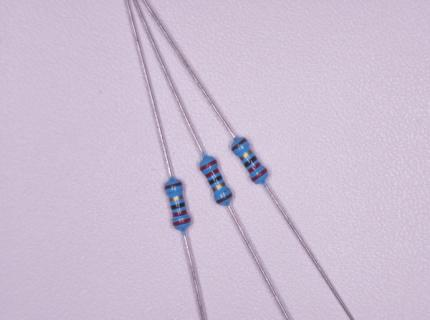Black band: (243, 155, 258, 168), (208, 175, 222, 185), (170, 202, 185, 210)
Brown band: (231, 138, 247, 151), (216, 193, 232, 204), (165, 182, 182, 189)
Gold band: (212, 181, 226, 192), (240, 150, 252, 161), (169, 195, 183, 202)
Red band: (251, 167, 268, 182), (200, 159, 217, 171), (248, 162, 262, 173), (205, 168, 220, 178), (173, 218, 191, 226), (172, 209, 188, 217)
